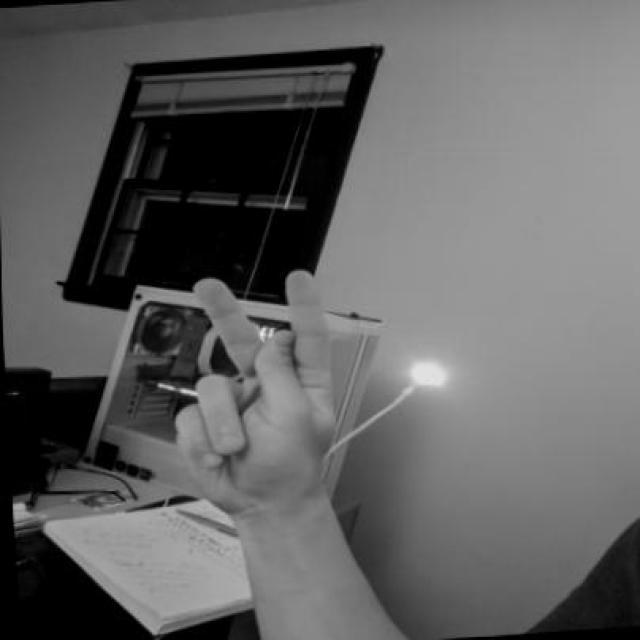K: (153, 264, 352, 533)
